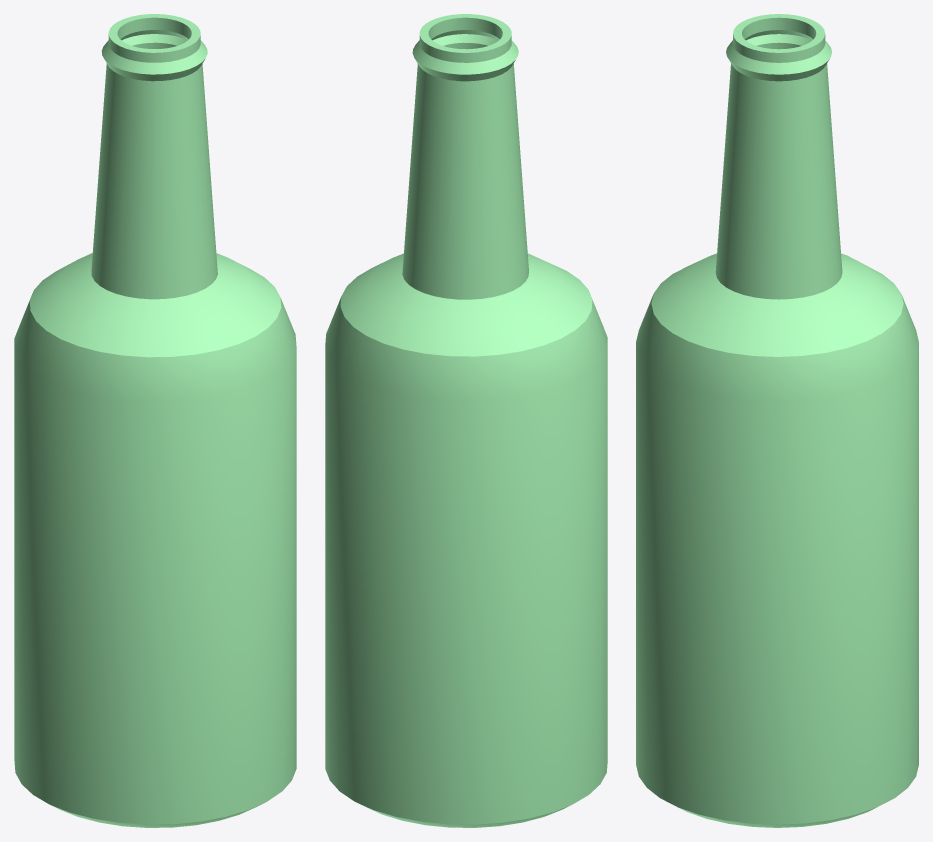
The model's file is alcohol_bottle.fbx.
3 views of the same model, side by side, from view 1: azimuth 30°, elevation 25°; view 2: azimuth 150°, elevation 25°; view 3: azimuth 270°, elevation 25° (orthographic).
Parts seen in each view (by area): view 1: bottle; view 2: bottle; view 3: bottle.
Part boxes in pixels (left/top/right/bottom): bottle: left=14, top=14, right=296, bottom=827; bottle: left=325, top=14, right=607, bottom=827; bottle: left=636, top=14, right=918, bottom=827.
Size of the model in its own units: 0.0975 by 0.2848 by 0.0975.
